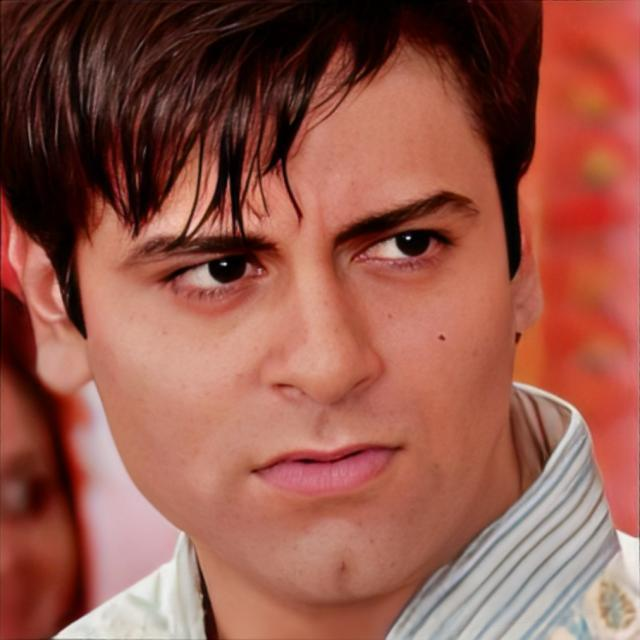anger: (88, 45, 520, 606)
